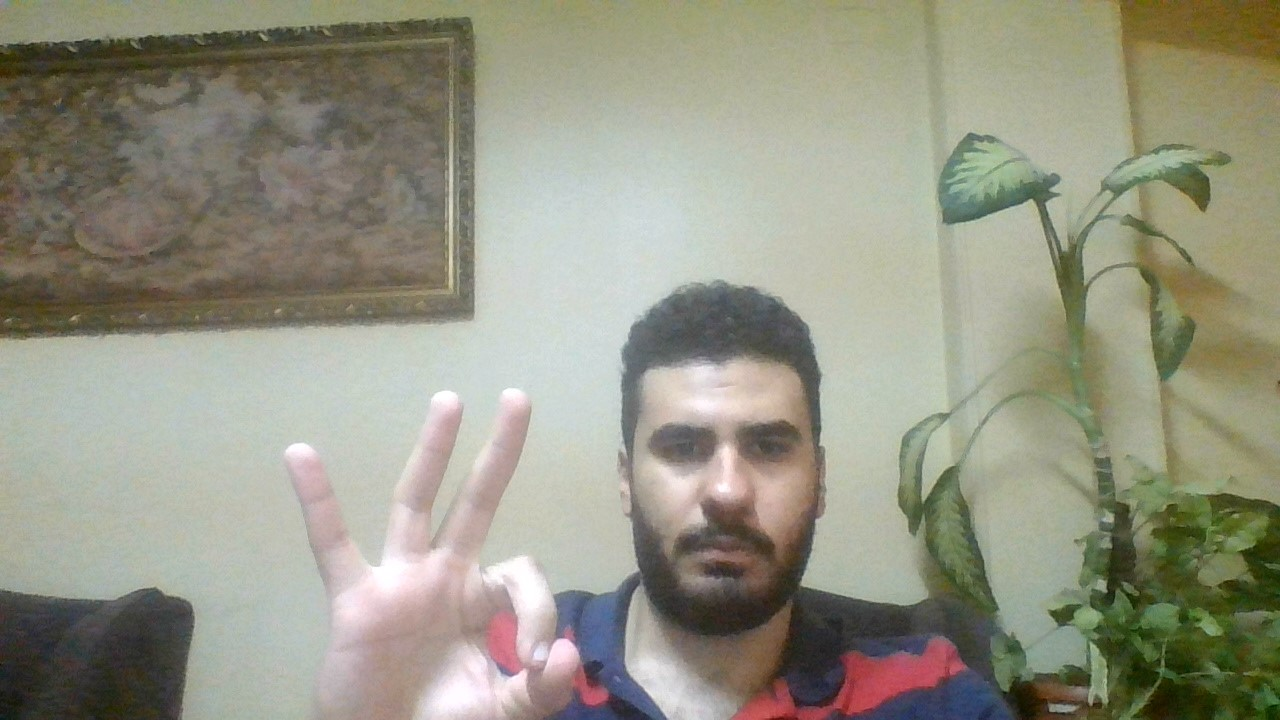okay: (267, 369, 587, 720)
